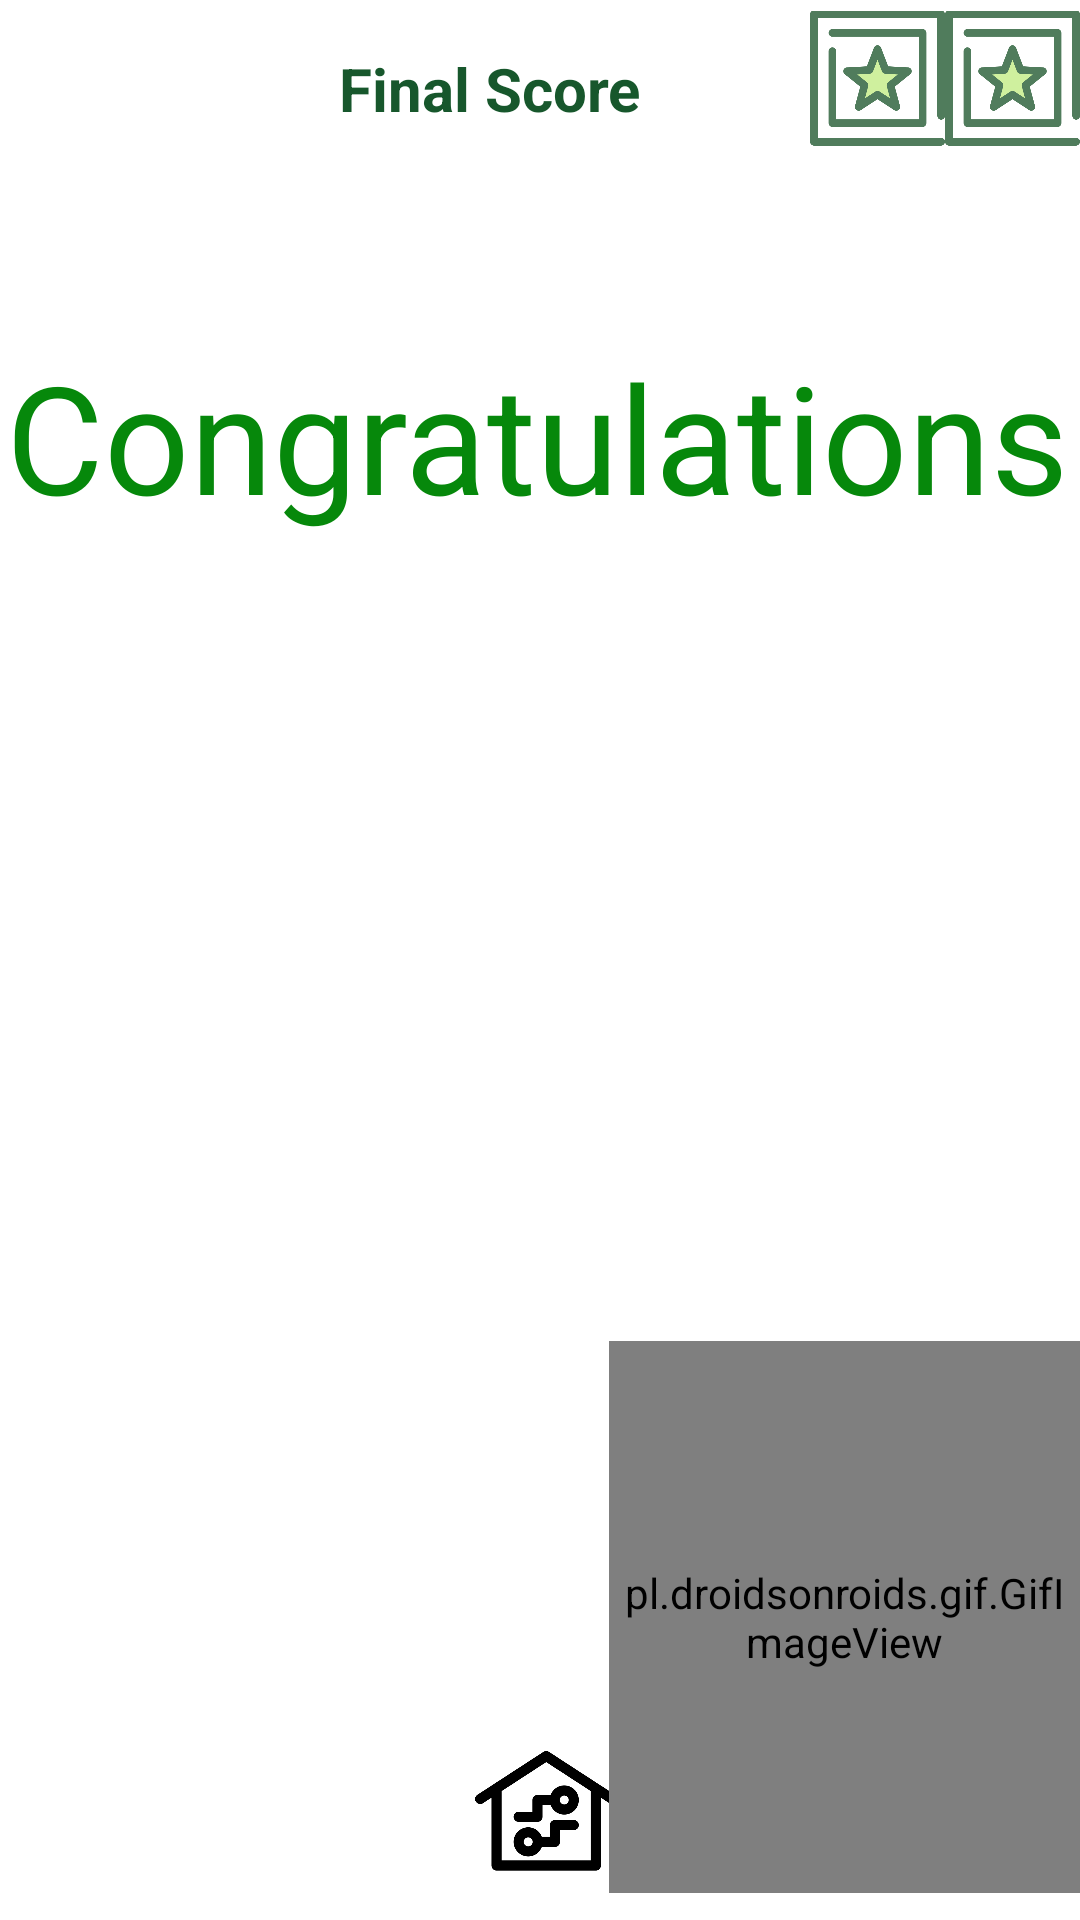

Screen size 1080w x 1920h. Icon name, then its center in pixels as (x=x, y=y):
greenstar: (x=877, y=78), (x=1012, y=78)
home: (x=550, y=1810)
